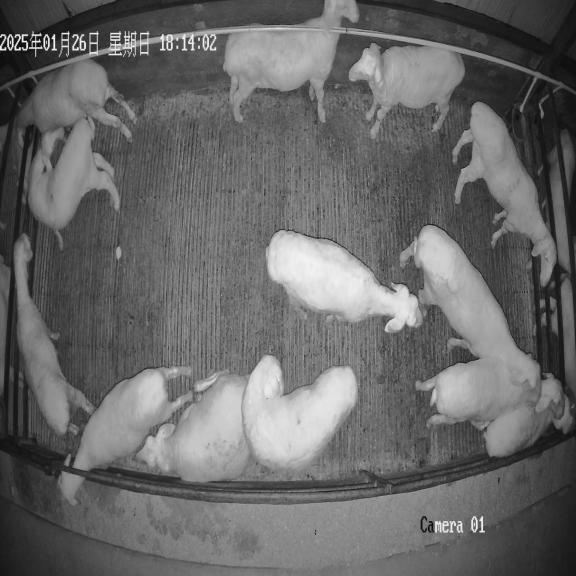drinking: (16, 59, 136, 147)
eating: (59, 367, 194, 505)
lying: (136, 371, 250, 482), (483, 396, 573, 457)
stand: (399, 225, 541, 387), (453, 102, 556, 286), (223, 0, 359, 123), (13, 234, 93, 435), (266, 230, 422, 333), (242, 356, 358, 469), (27, 118, 120, 249), (348, 43, 465, 138), (415, 357, 563, 430)
